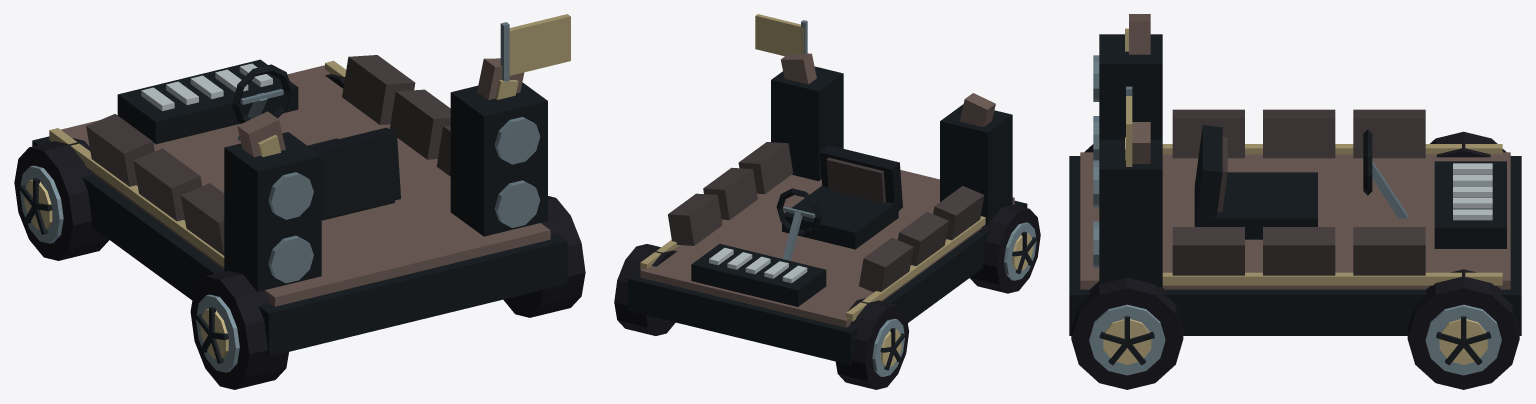
Rendered from kart.glb.
3 views of the same model, side by side, from view 1: azimuth 30°, elevation 25°; view 2: azimuth 150°, elevation 25°; view 3: azimuth 270°, elevation 25° (orthographic). The views are drawn at different scales.
Parts seen in each view (by area): view 1: identity-stage-stage-platform-and-pa-towers, identity-stage-motif-armor, wheel-rear-left, wheel-front-left, identity-stage-driver-cockpit, identity-stage-motif-flag, wheel-rear-right, identity-stage-motif-ears; view 2: identity-stage-stage-platform-and-pa-towers, identity-stage-motif-armor, identity-stage-driver-cockpit, wheel-front-left, wheel-rear-left, wheel-front-right, identity-stage-motif-flag, identity-stage-motif-ears; view 3: identity-stage-stage-platform-and-pa-towers, identity-stage-motif-armor, wheel-front-right, wheel-rear-right, identity-stage-driver-cockpit, identity-stage-motif-ears, wheel-front-left, identity-stage-motif-flag.
Part boxes in pixels (bbox=[...]): identity-stage-stage-platform-and-pa-towers: bbox=[32, 59, 567, 356]; identity-stage-motif-armor: bbox=[86, 55, 450, 255]; wheel-rear-left: bbox=[190, 270, 288, 389]; wheel-front-left: bbox=[14, 138, 109, 260]; identity-stage-driver-cockpit: bbox=[231, 64, 400, 220]; identity-stage-motif-flag: bbox=[500, 14, 570, 81]; wheel-rear-right: bbox=[503, 196, 585, 317]; identity-stage-motif-ears: bbox=[237, 58, 524, 157]; identity-stage-stage-platform-and-pa-towers: bbox=[627, 66, 1027, 364]; identity-stage-motif-armor: bbox=[668, 142, 984, 292]; identity-stage-driver-cockpit: bbox=[776, 145, 902, 260]; wheel-front-left: bbox=[835, 298, 909, 389]; wheel-rear-left: bbox=[970, 204, 1040, 293]; wheel-front-right: bbox=[614, 244, 676, 335]; identity-stage-motif-flag: bbox=[755, 14, 807, 56]; identity-stage-motif-ears: bbox=[780, 53, 995, 127]; identity-stage-stage-platform-and-pa-towers: bbox=[1069, 34, 1521, 335]; identity-stage-motif-armor: bbox=[1172, 109, 1425, 275]; wheel-front-right: bbox=[1407, 269, 1519, 389]; wheel-rear-right: bbox=[1071, 277, 1183, 389]; identity-stage-driver-cockpit: bbox=[1194, 125, 1407, 239]; identity-stage-motif-ears: bbox=[1125, 14, 1150, 163]; wheel-front-left: bbox=[1430, 131, 1506, 157]; identity-stage-motif-flag: bbox=[1126, 86, 1132, 166].
Bounding box in the file's own units: 2.19 × 1.7 × 2.5.
